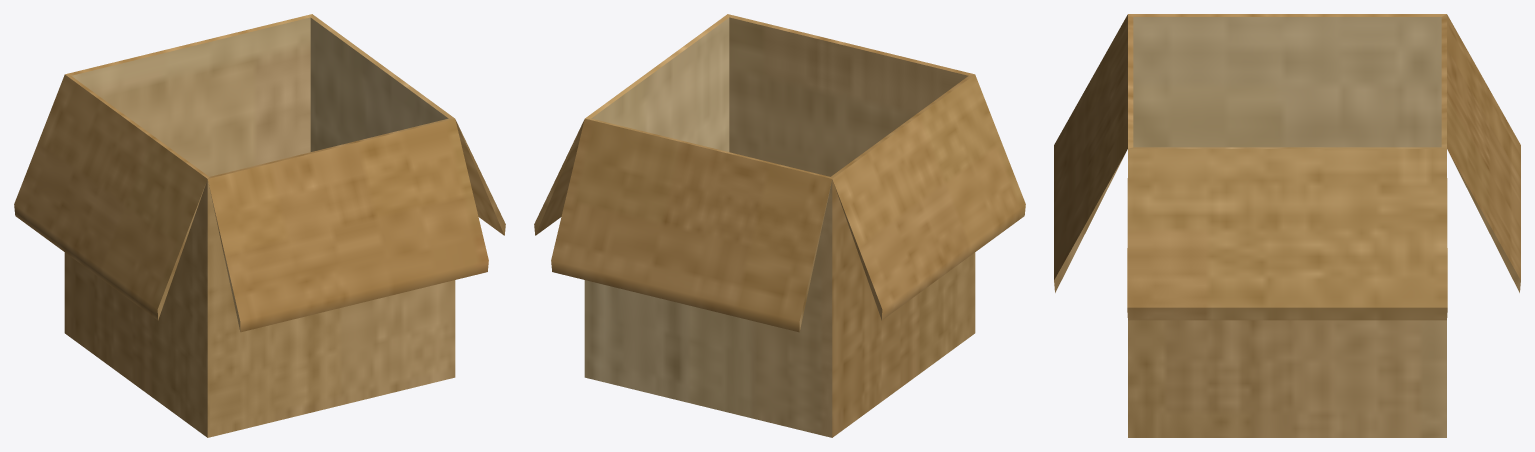
The model's file is Open Box.fbx.
3 views of the same model, side by side, from view 1: azimuth 30°, elevation 25°; view 2: azimuth 150°, elevation 25°; view 3: azimuth 270°, elevation 25° (orthographic). The views are drawn at different scales.
Parts seen in each view (by area): view 1: pPlane11; view 2: pPlane11; view 3: pPlane11.
Boxes of the visible parts, x1=… form: pPlane11: x1=14, y1=14, x2=505, y2=437; pPlane11: x1=534, y1=14, x2=1025, y2=437; pPlane11: x1=1054, y1=14, x2=1520, y2=437.
Bounding box in the file's own units: 3.88 × 2.76 × 4.03.
1 material, 1 textured.
